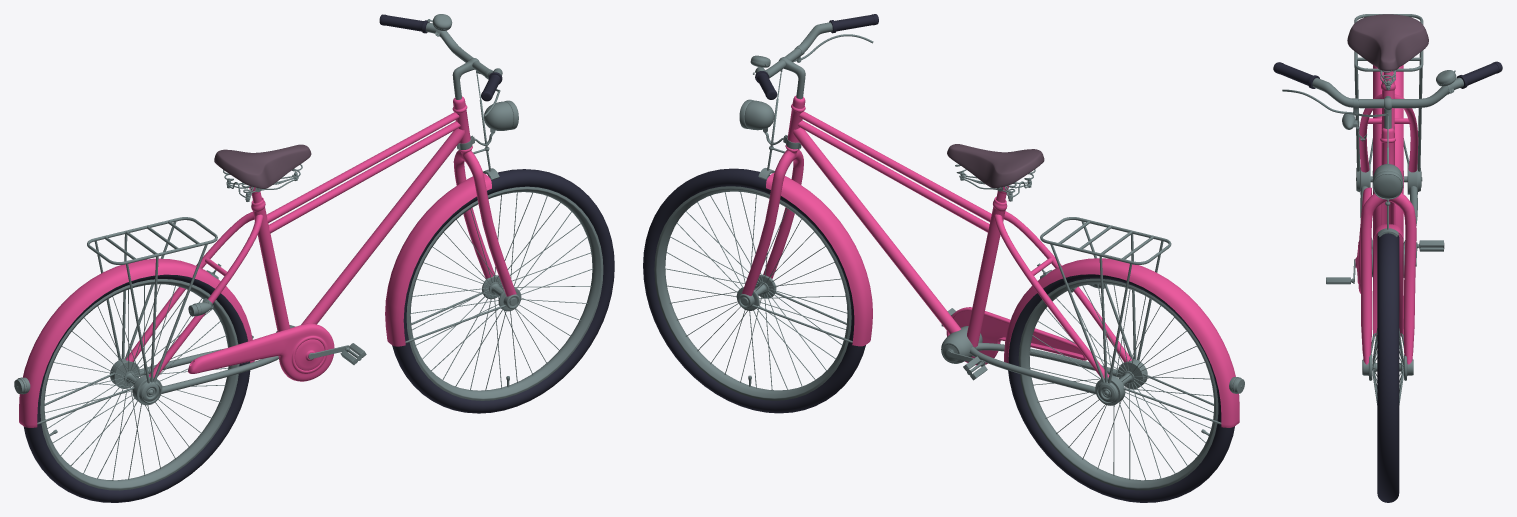
The model's file is BikeC.fbx.
The picture shows the model from 3 angles, left to right: view 1: azimuth 30°, elevation 25°; view 2: azimuth 150°, elevation 25°; view 3: azimuth 270°, elevation 25°; orthographic projection. The views are drawn at different scales.
Visible parts, largest first — view 1: Bicycle; view 2: Bicycle; view 3: Bicycle.
Boxes of the visible parts, x1=… form: Bicycle: x1=14, y1=14, x2=614, y2=502; Bicycle: x1=643, y1=14, x2=1244, y2=502; Bicycle: x1=1273, y1=14, x2=1502, y2=502.
Size of the model in its own units: 47.25 by 150 by 91.58.
